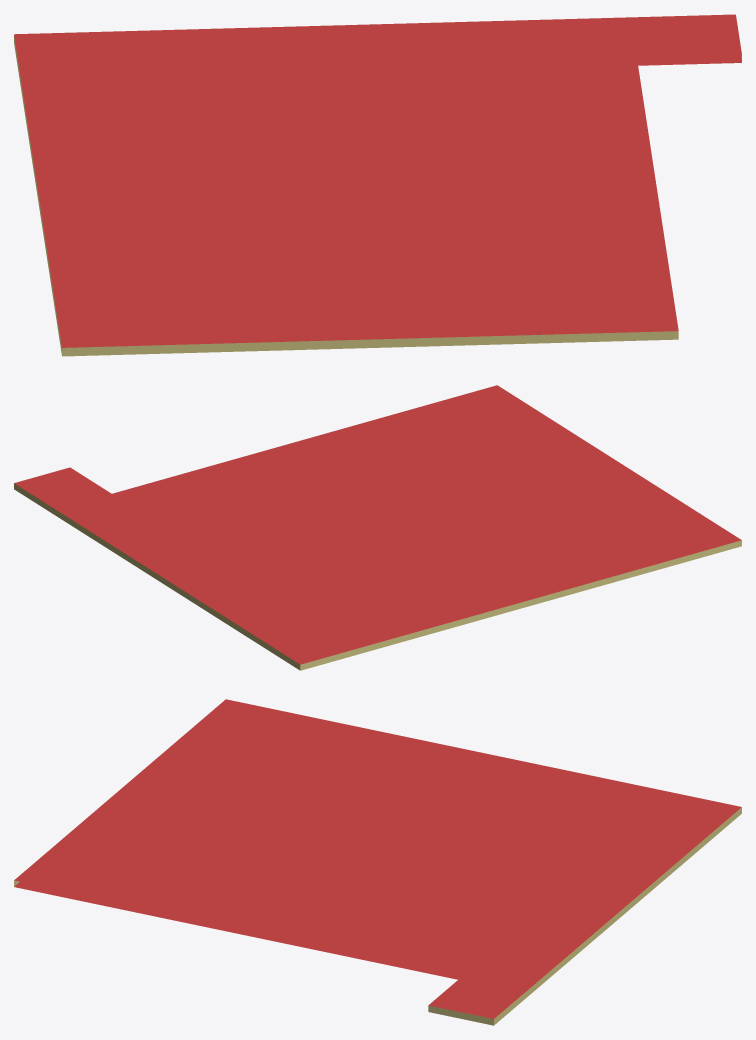
The picture shows the model from 3 angles, top to bottom: view 1: azimuth 30°, elevation 25°; view 2: azimuth 150°, elevation 25°; view 3: azimuth 270°, elevation 25°; orthographic projection. The views are drawn at different scales.
Bounding box in the file's own units: 10.35 × 9.95 × 0.1.
